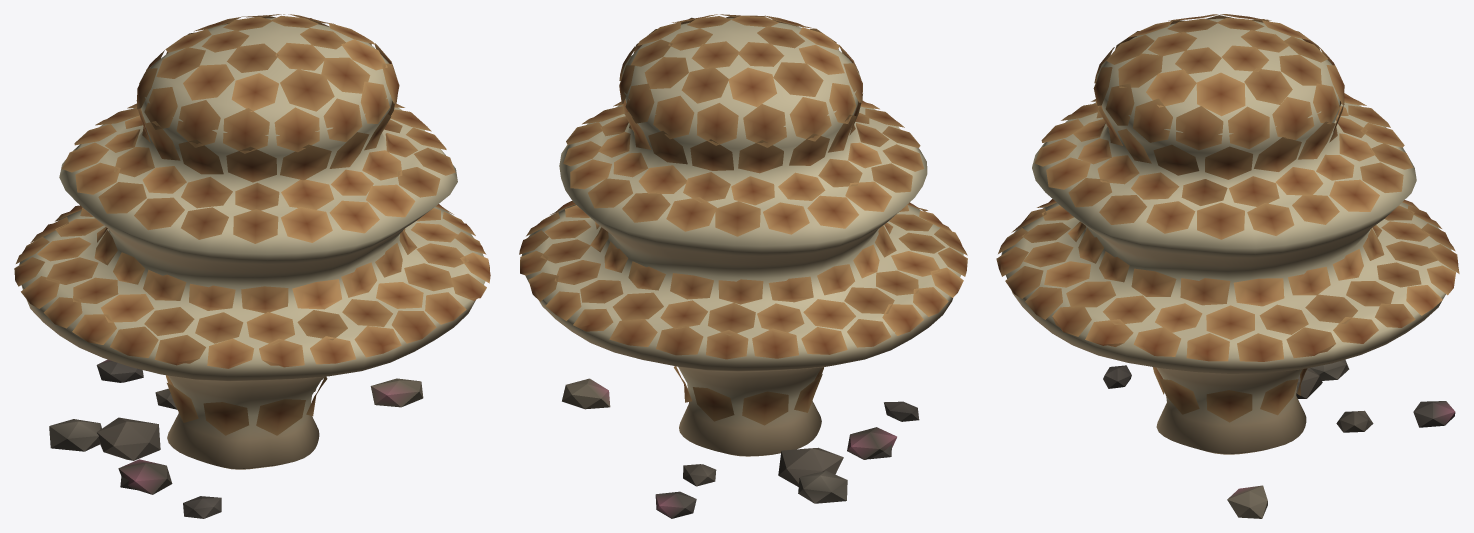
File: Moorowipora.fbx
3 renders of one model, left to right at view 1: azimuth 30°, elevation 25°; view 2: azimuth 150°, elevation 25°; view 3: azimuth 270°, elevation 25°, orthographic. The views are drawn at different scales.
Parts seen in each view (by area): view 1: Moorowipora; view 2: Moorowipora; view 3: Moorowipora.
Boxes of the visible parts, x1,y1,x2,y2 form: Moorowipora: (14,14,490,518); Moorowipora: (519,14,967,518); Moorowipora: (996,14,1459,518).
Size of the model in its own units: 1.09 by 1.08 by 1.09.
